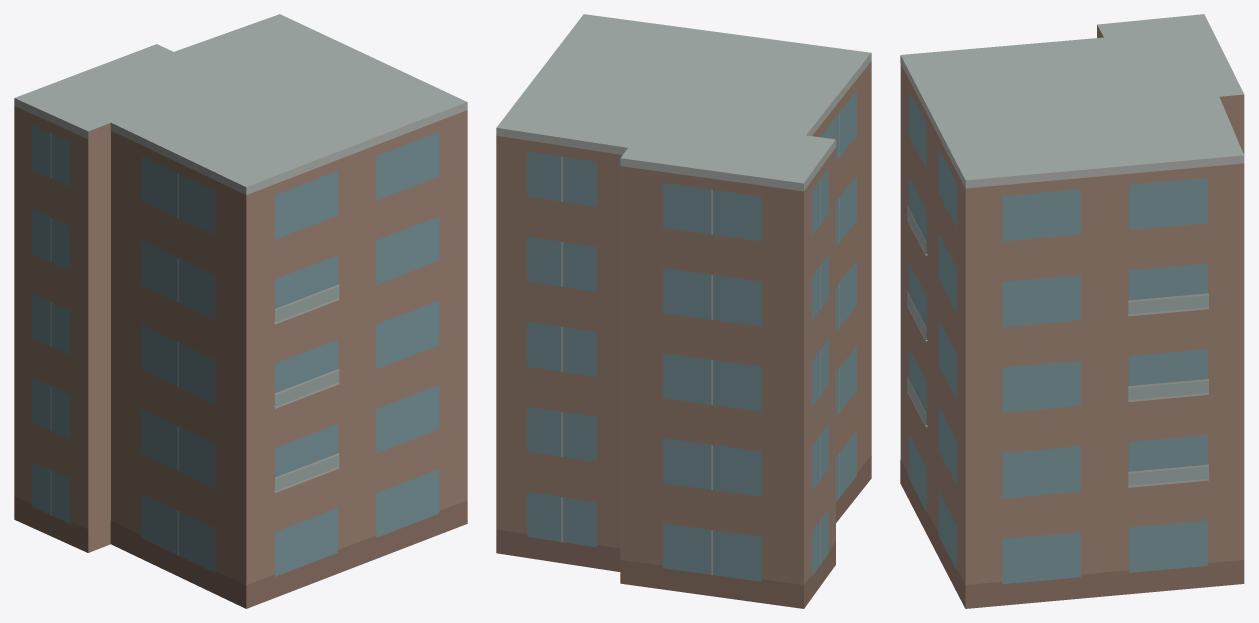
The model's file is survey-upis-32978883.glb.
3 views of the same model, side by side, from view 1: azimuth 30°, elevation 25°; view 2: azimuth 150°, elevation 25°; view 3: azimuth 270°, elevation 25° (orthographic).
Visible parts, largest first — view 1: survey-upis-32978883.tmp; view 2: survey-upis-32978883.tmp; view 3: survey-upis-32978883.tmp.
Part boxes in pixels (left/top/right/bottom): survey-upis-32978883.tmp: left=14, top=14, right=467, bottom=608; survey-upis-32978883.tmp: left=496, top=14, right=871, bottom=608; survey-upis-32978883.tmp: left=900, top=14, right=1244, bottom=608.
Bounding box in the file's own units: 10.93 × 13.1 × 9.54.
